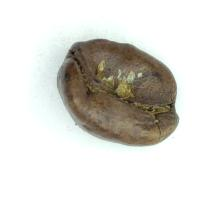NG: (70, 39, 178, 128)
